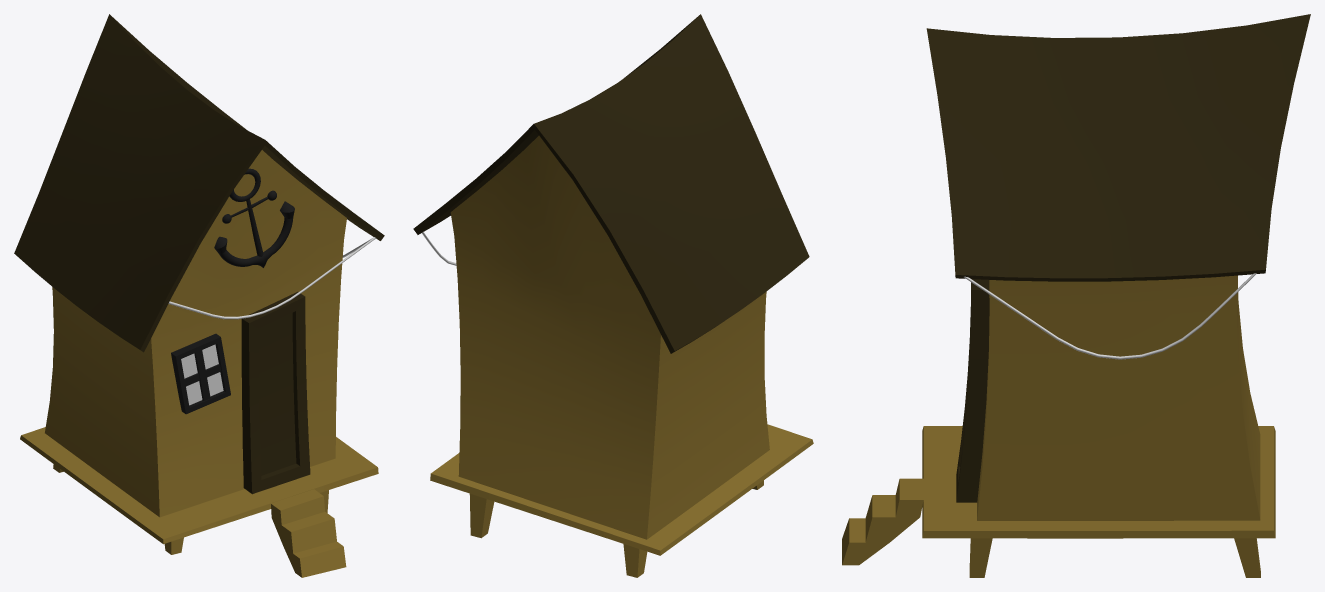
File: 3D_Beach_Hut.FBX
3 views of the same model, side by side, from view 1: azimuth 30°, elevation 25°; view 2: azimuth 150°, elevation 25°; view 3: azimuth 270°, elevation 25° (orthographic). The views are drawn at different scales.
Parts seen in each view (by area): view 1: 3D_Beach_Hut; view 2: 3D_Beach_Hut; view 3: 3D_Beach_Hut.
Boxes of the visible parts, bbox=[...] form: 3D_Beach_Hut: bbox=[14, 14, 384, 577]; 3D_Beach_Hut: bbox=[413, 14, 813, 577]; 3D_Beach_Hut: bbox=[842, 14, 1310, 577].
Size of the model in its own units: 208 by 341 by 277.
